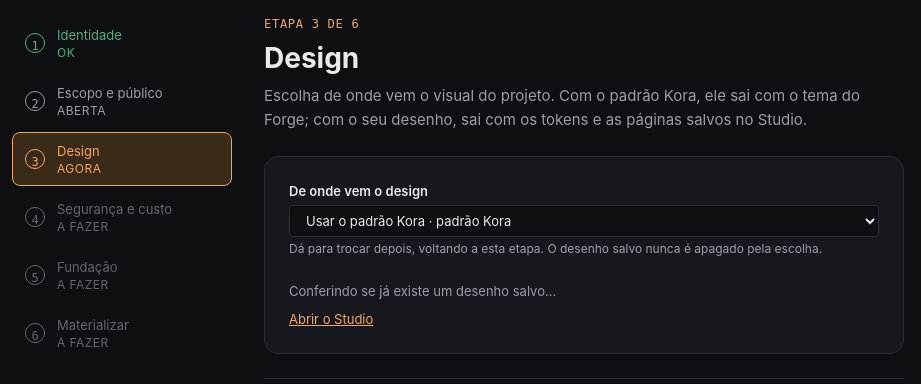
Scenario: trilha e volta › a trilha navega para etapa já vista e não deixa pular à frente
The image size is (921, 384).
(page scrolled)
Expected: the button "6 Materializar a fazer" is disabled, [12,306,232,360]
Step 1. Click the button "1 Identidade ok" → {"x": 122, "y": 43}, box [12,16,232,70]
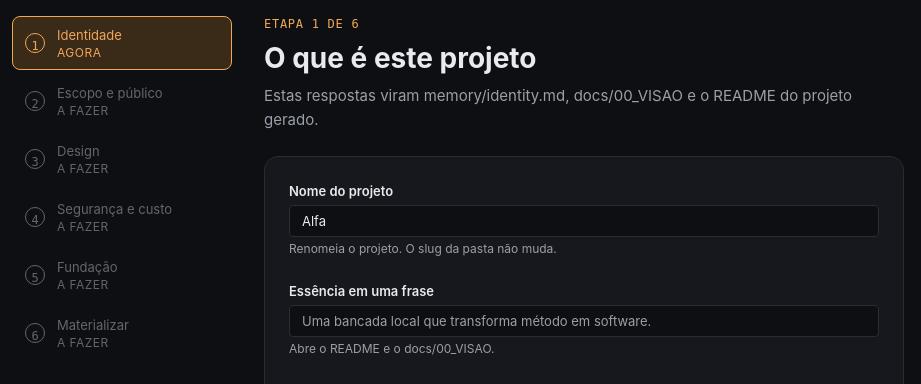
Now the heading "O que é este projeto" is shown, box [264,41,536,75]
